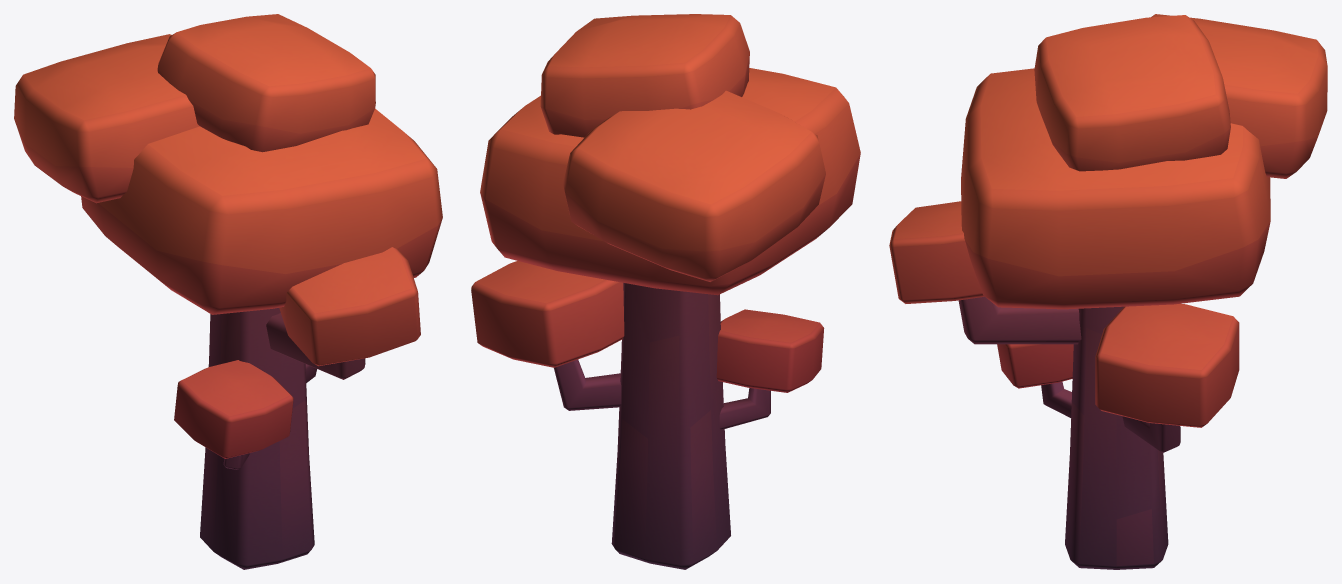
The picture shows the model from 3 angles, left to right: view 1: azimuth 30°, elevation 25°; view 2: azimuth 150°, elevation 25°; view 3: azimuth 270°, elevation 25°; orthographic projection. The views are drawn at different scales.
Parts seen in each view (by area): view 1: grassland_tree_SC_05; view 2: grassland_tree_SC_05; view 3: grassland_tree_SC_05.
Boxes of the visible parts, x1,y1,x2,y2 form: grassland_tree_SC_05: (14, 14, 442, 569); grassland_tree_SC_05: (471, 14, 860, 569); grassland_tree_SC_05: (889, 14, 1327, 569).
Size of the model in its own units: 552 by 840 by 649.
1 material, 1 textured.
